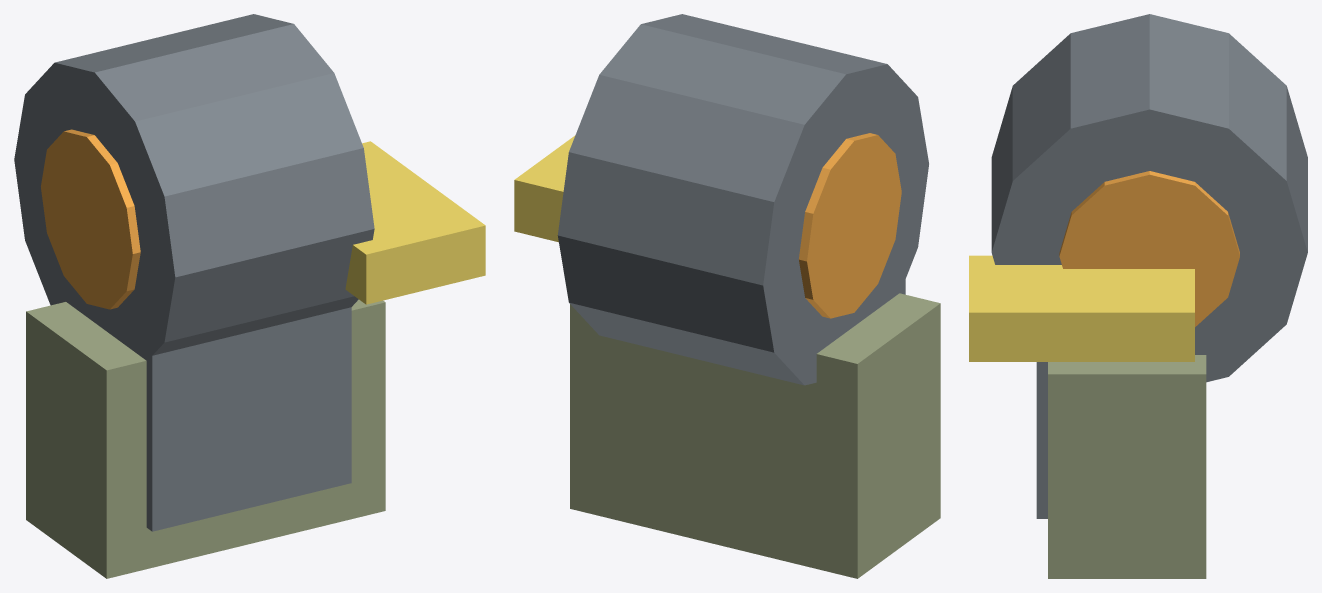
Rendered from mech-hangar-and-battle-frames-ammo-drum-pack-24715918__26902.glb.
3 views of the same model, side by side, from view 1: azimuth 30°, elevation 25°; view 2: azimuth 150°, elevation 25°; view 3: azimuth 270°, elevation 25° (orthographic). The views are drawn at different scales.
Parts seen in each view (by area): view 1: ammo-drum-pack; view 2: ammo-drum-pack; view 3: ammo-drum-pack.
Boxes of the visible parts, bbox=[...] form: ammo-drum-pack: bbox=[14, 14, 485, 578]; ammo-drum-pack: bbox=[514, 14, 940, 578]; ammo-drum-pack: bbox=[969, 14, 1307, 578].
Bounding box in the file's own units: 0.85 × 1.1 × 0.75.
